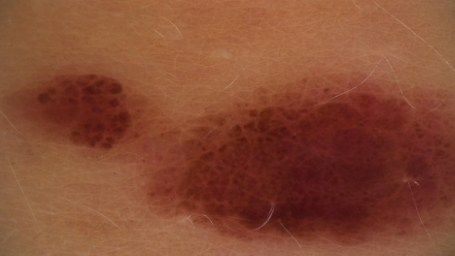melanoma: (149, 89, 455, 238), (36, 75, 129, 148)
